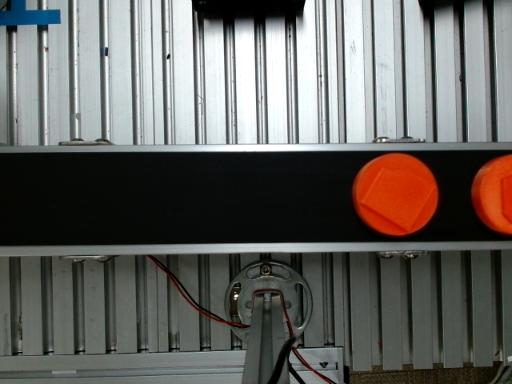Not_Square: (360, 166, 436, 232)
Orange_Waper: (352, 153, 438, 235), (471, 155, 511, 234)
